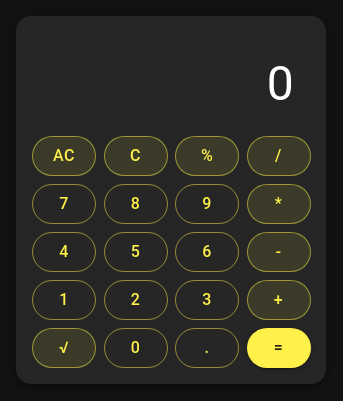
Scenario: Calculator App › should perform subtraction correctly
Click the button "5" at (136, 252), box [104,232,168,272]
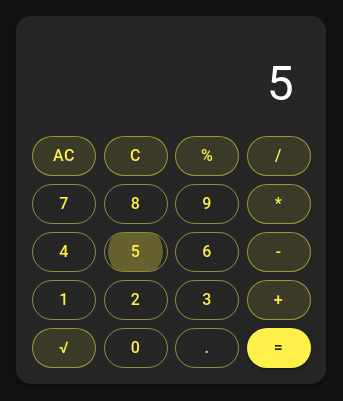
Click the button "-" at (279, 252), box [247,232,311,272]
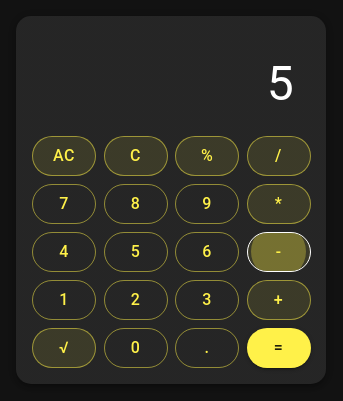
Click the button "3" at (207, 300), box [175,280,239,320]
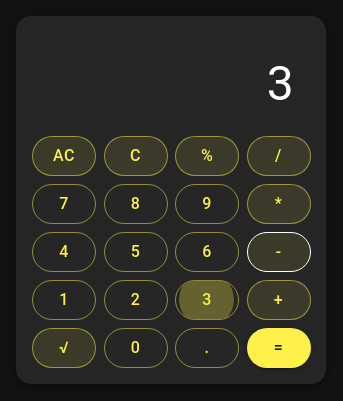
Click the button "=" at (279, 348), box [247,328,311,368]
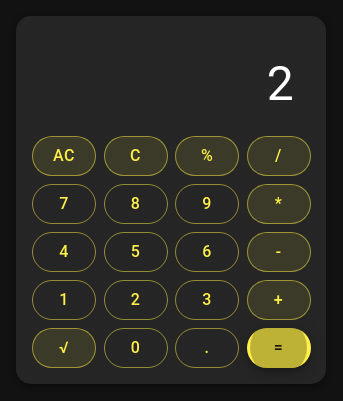
Result: the text with test id "output" reads "2" at [267,55,294,112]
